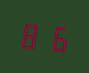eight: (19, 17, 43, 52)
six: (44, 20, 68, 55)
